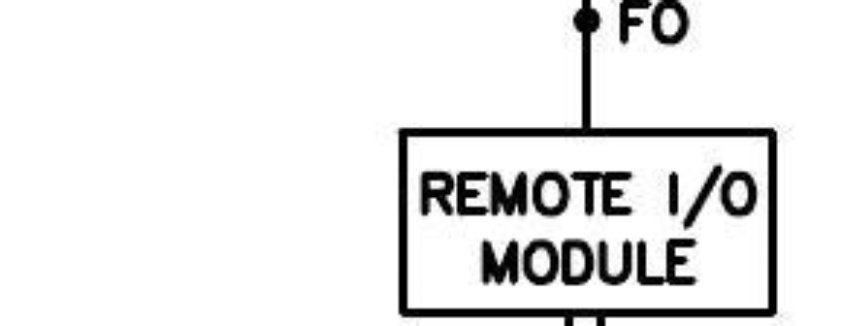remote_io_module: (397, 127, 778, 318)
